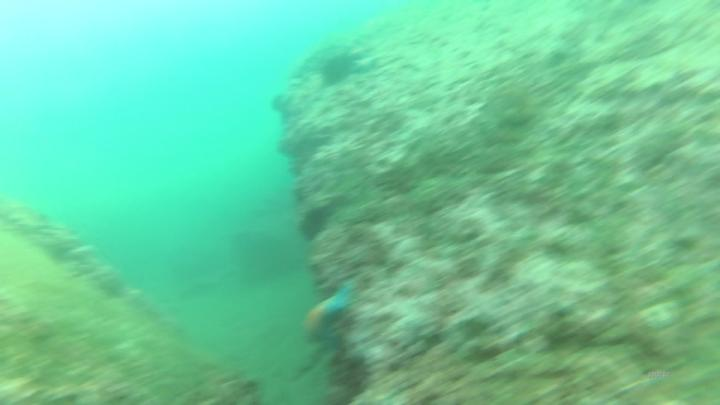starfish: (297, 285, 360, 355)
